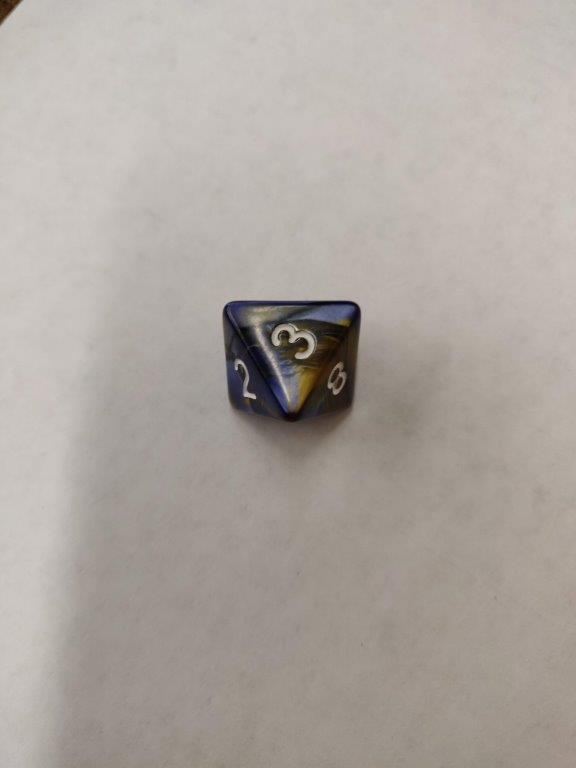d8-3: (223, 298, 359, 416)
